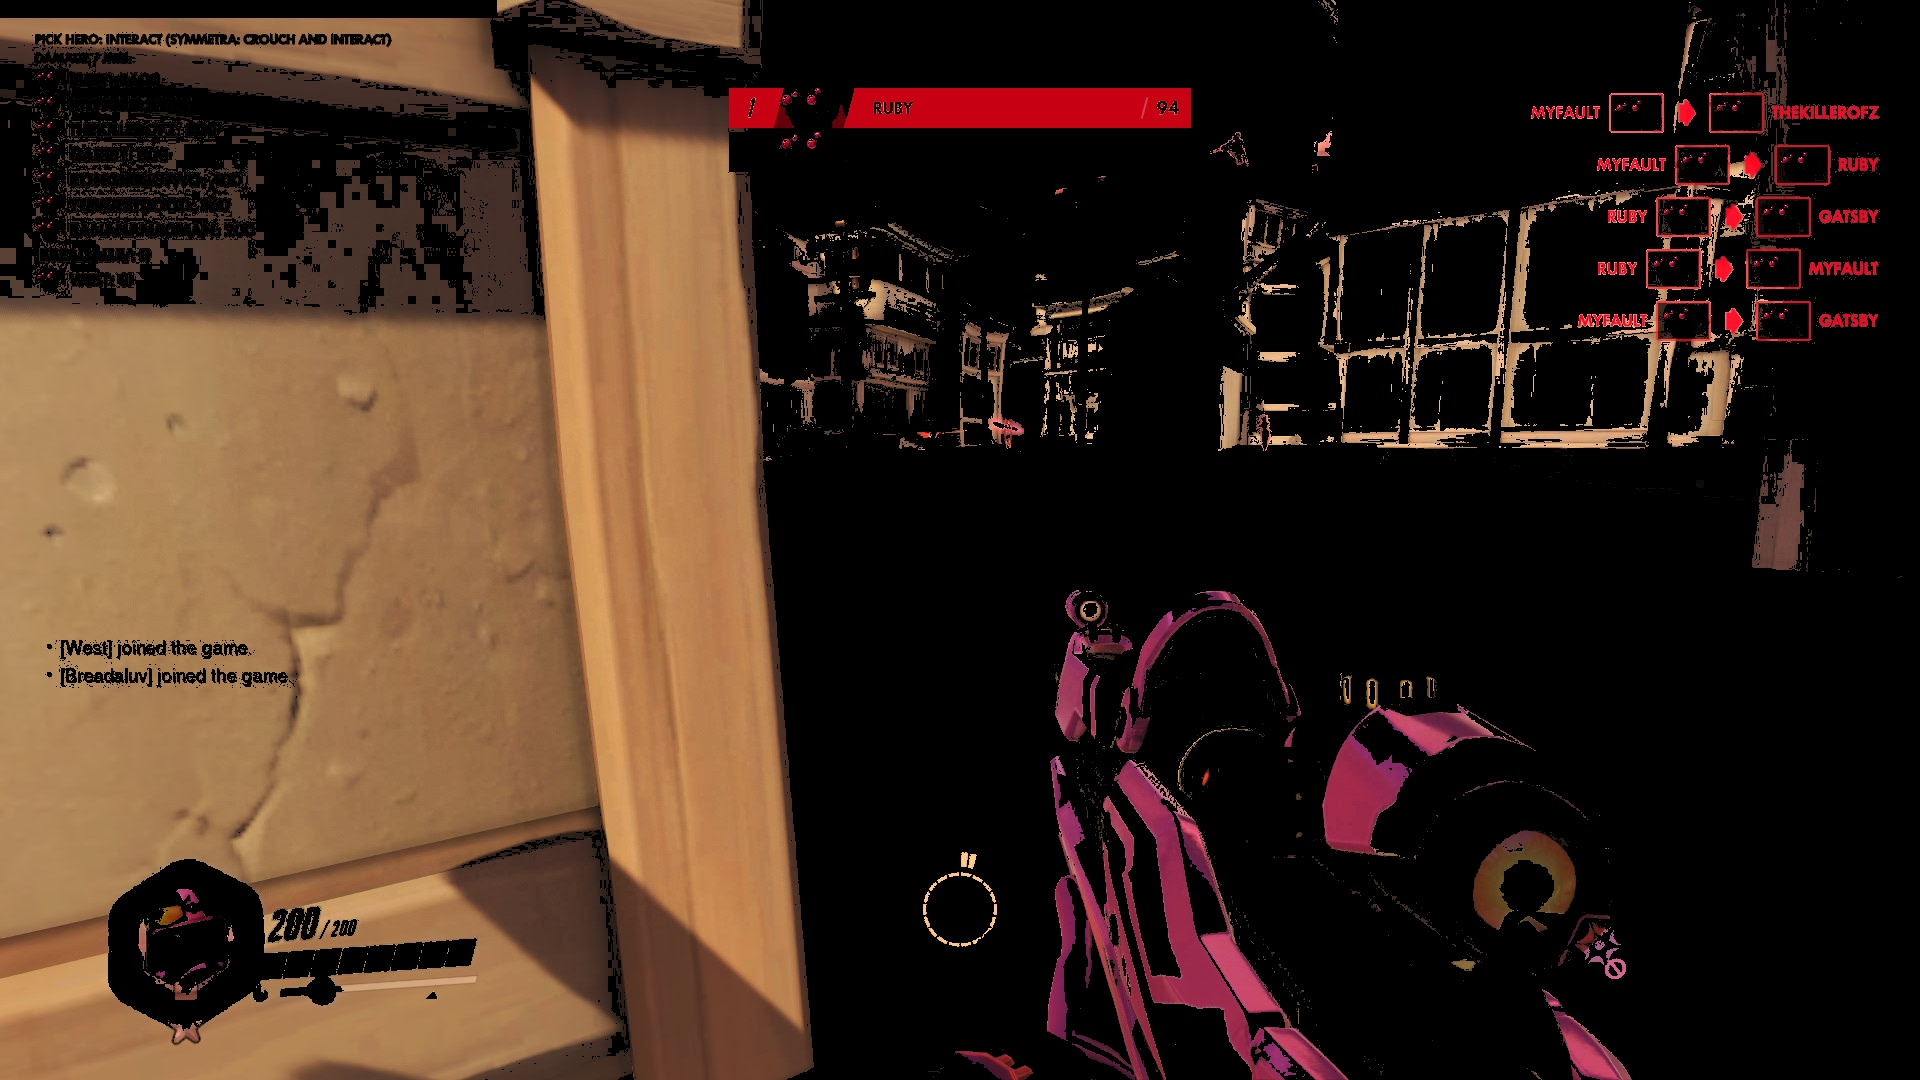widowmaker: (1255, 411, 1278, 454), (1002, 417, 1021, 448)
